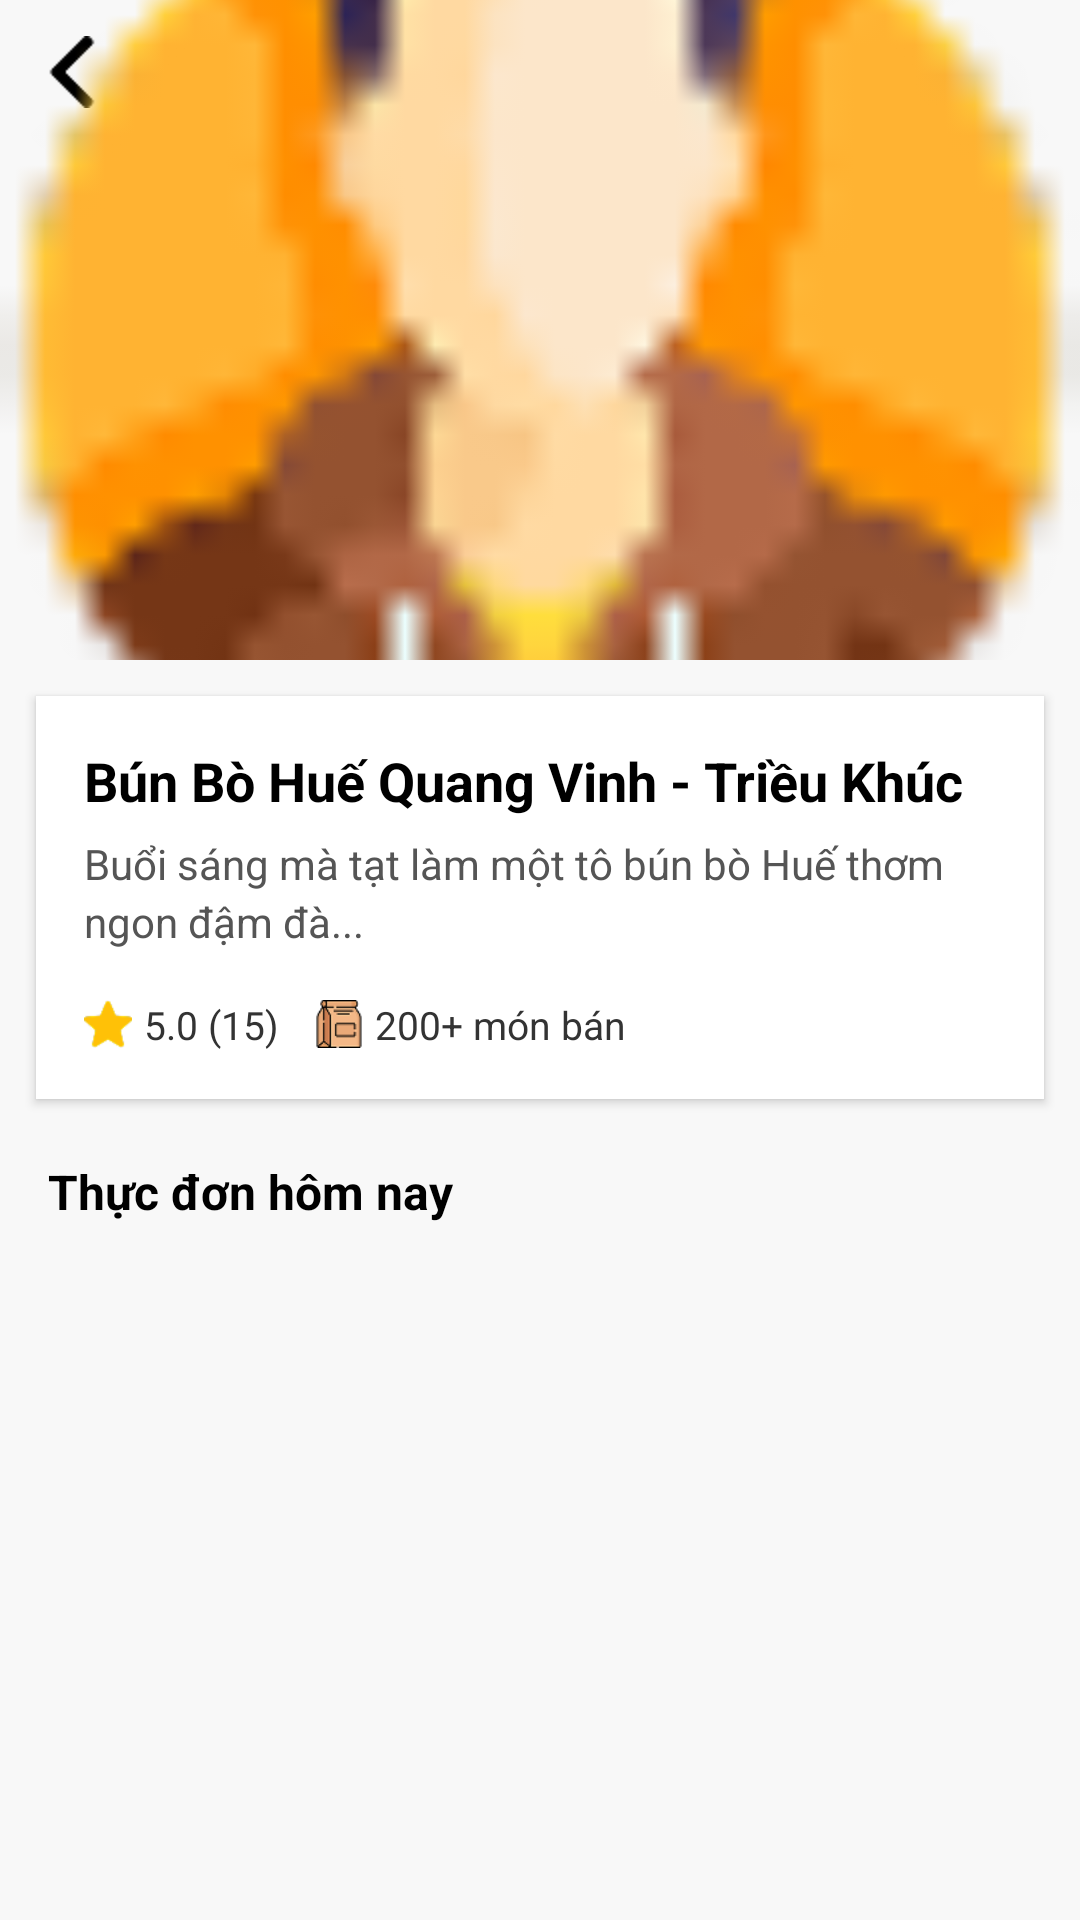

Icons on this 1080w x 1920h Android screen, each with its box as {"left": x1, "top": y1, "right": x2, "bottom": y2}:
pack: {"left": 316, "top": 1000, "right": 362, "bottom": 1048}
Quay lại: {"left": 49, "top": 36, "right": 108, "bottom": 108}
star: {"left": 84, "top": 1001, "right": 132, "bottom": 1047}
